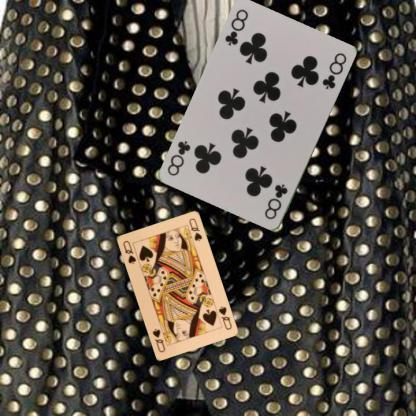8c: (222, 7, 250, 48), (262, 182, 290, 222)
Qs: (215, 303, 233, 330), (120, 238, 137, 265)
